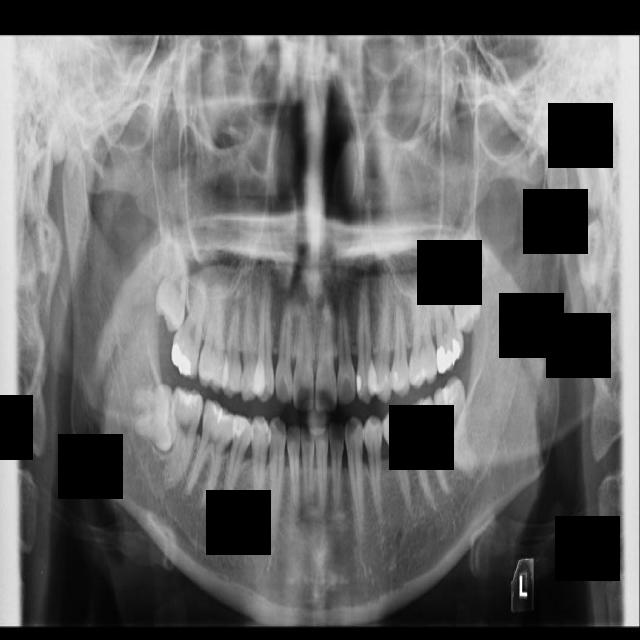3M ESPE Implant: (153, 212, 193, 333)
52: (190, 394, 246, 448), (422, 372, 476, 424), (166, 385, 207, 431), (436, 325, 465, 376), (355, 361, 378, 404), (389, 358, 412, 399), (232, 412, 253, 453)
73: (569, 520, 577, 550)
BioHorizons Implant: (429, 264, 466, 375)
BioLife Implant: (452, 239, 482, 336)
Blue Sky Bio Implant: (429, 373, 481, 483)
Caries: (168, 267, 212, 381)
Implant: (157, 385, 206, 493)
Keystone Dental Implant: (131, 383, 179, 455)
